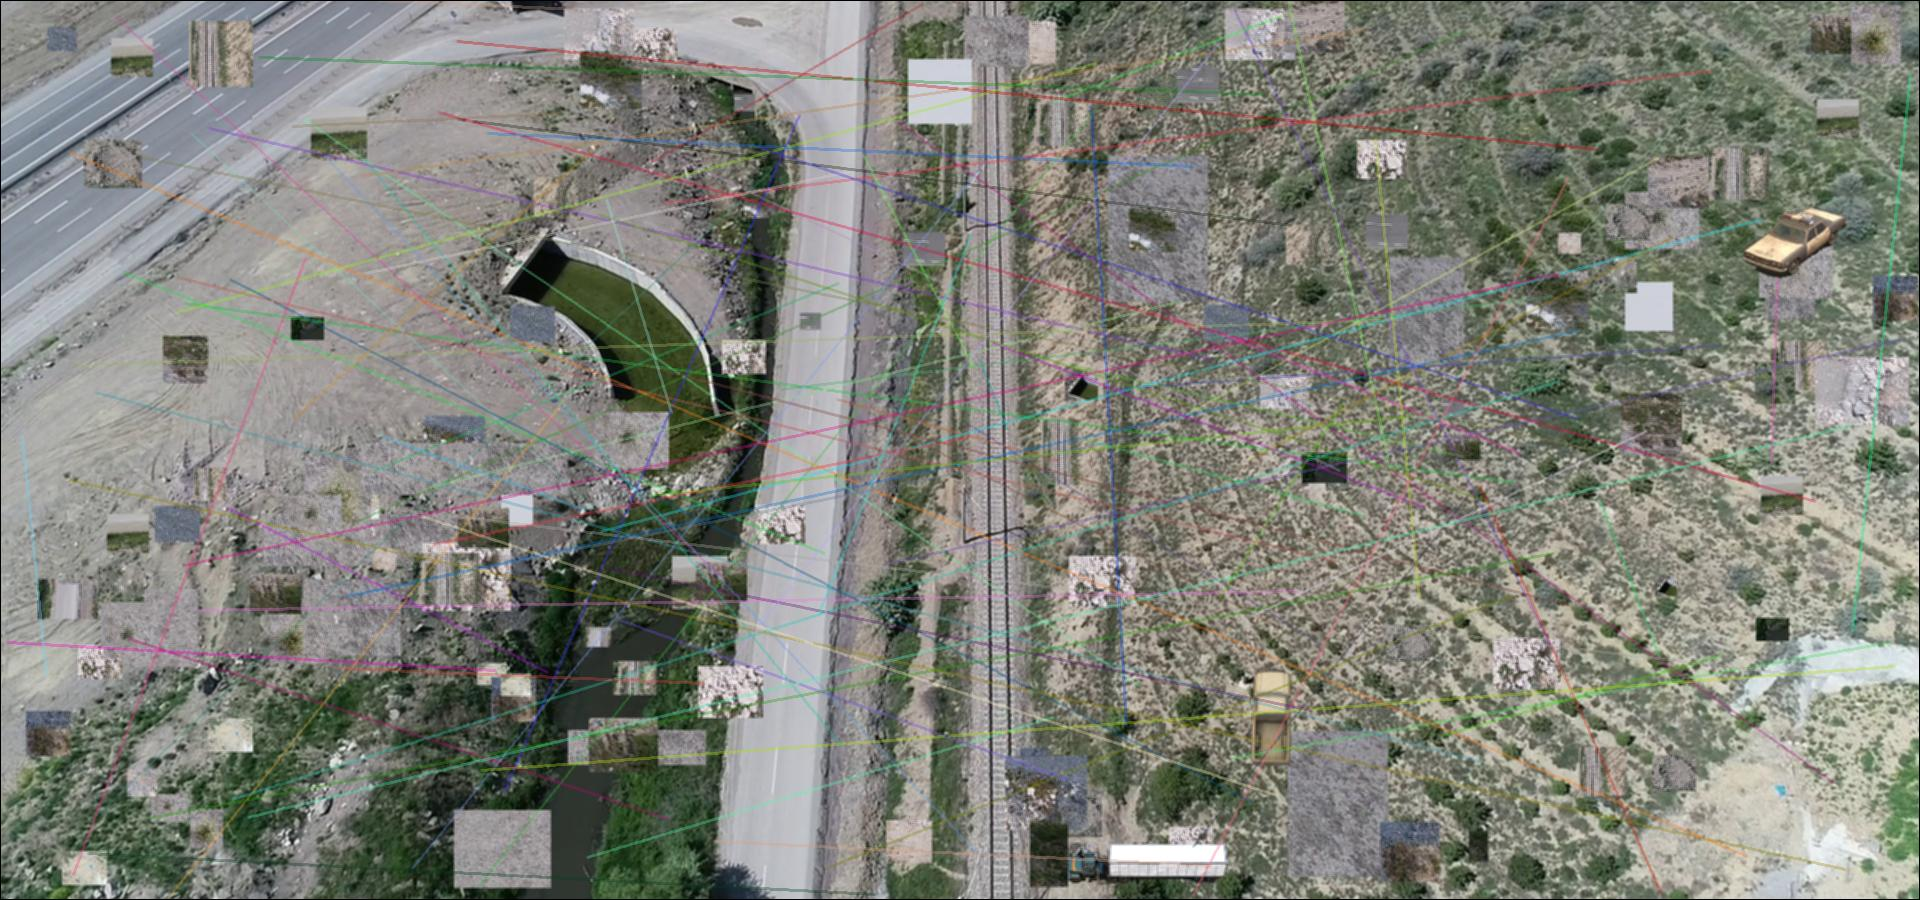arac: (1742, 204, 1850, 283), (1067, 841, 1228, 885), (1247, 667, 1296, 770)
